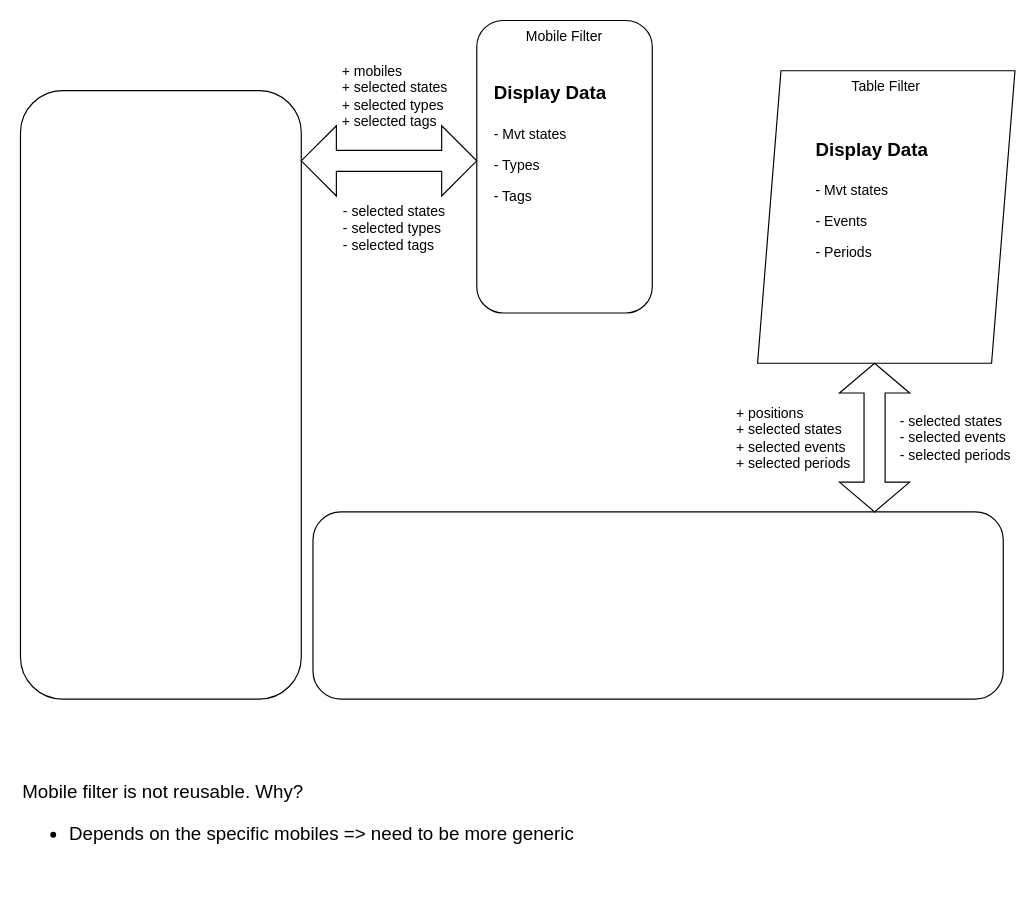
Image size: 1035x907. Some labels were removed from this diagram. Here are the shapes that lost their labels. From the top down, the centre of each, then its label:
At (160,394): "MOBILES".
At (657,605): "TABLE".
